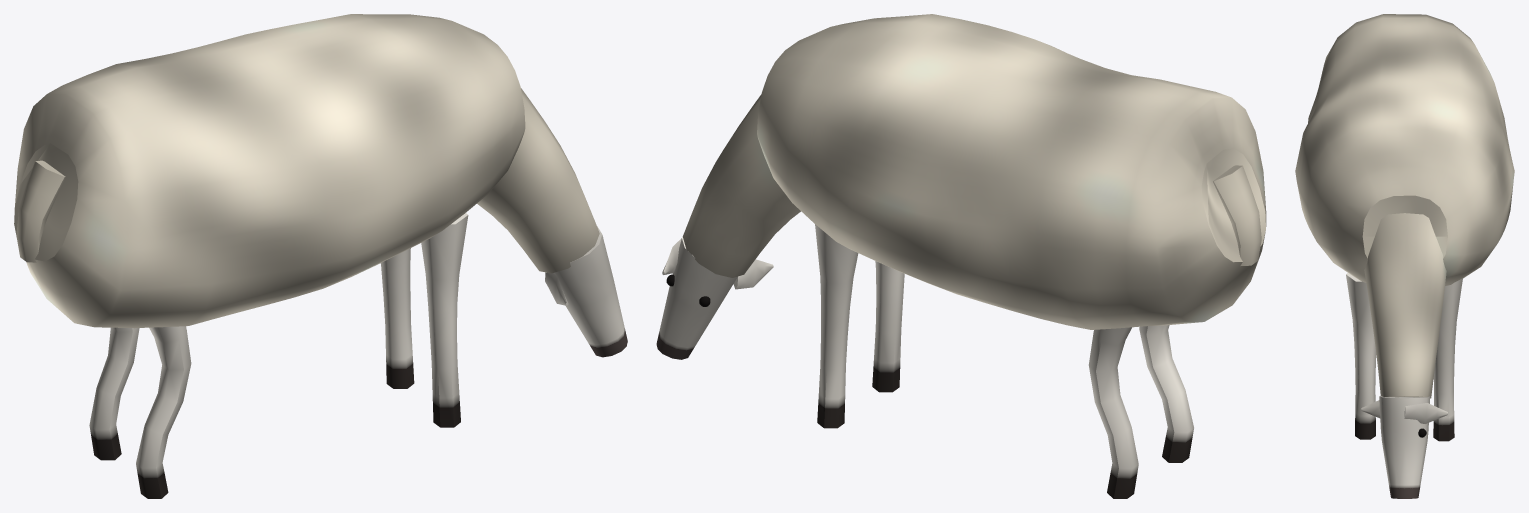
File: tpl_life_sheep_2021_sheep_texel_graze.glb
3 renders of one model, left to right at view 1: azimuth 30°, elevation 25°; view 2: azimuth 150°, elevation 25°; view 3: azimuth 270°, elevation 25°, orthographic. The views are drawn at different scales.
Visible parts, largest first — view 1: tpl_life_sheep_2021_sheep_texel_graze; view 2: tpl_life_sheep_2021_sheep_texel_graze; view 3: tpl_life_sheep_2021_sheep_texel_graze.
Part boxes in pixels (box(x1,y1,x2,y2)): tpl_life_sheep_2021_sheep_texel_graze: box(14, 14, 627, 498); tpl_life_sheep_2021_sheep_texel_graze: box(656, 14, 1266, 498); tpl_life_sheep_2021_sheep_texel_graze: box(1295, 14, 1514, 498).
Bounding box in the file's own units: 1.36 × 0.8416 × 0.5594.
Materials: 2 (1 with a texture image).
